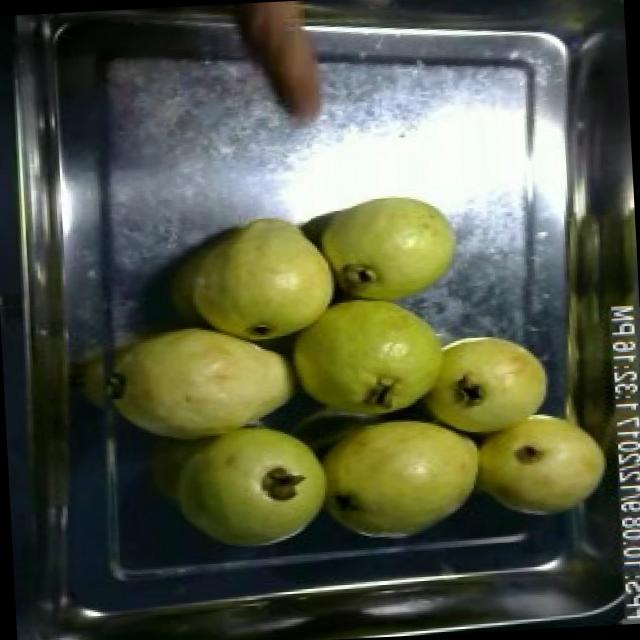Fruit: (102, 311, 317, 464), (266, 276, 469, 426), (160, 203, 348, 354), (166, 413, 352, 564), (292, 418, 494, 556), (395, 320, 566, 460), (301, 182, 471, 312), (464, 398, 619, 528)
